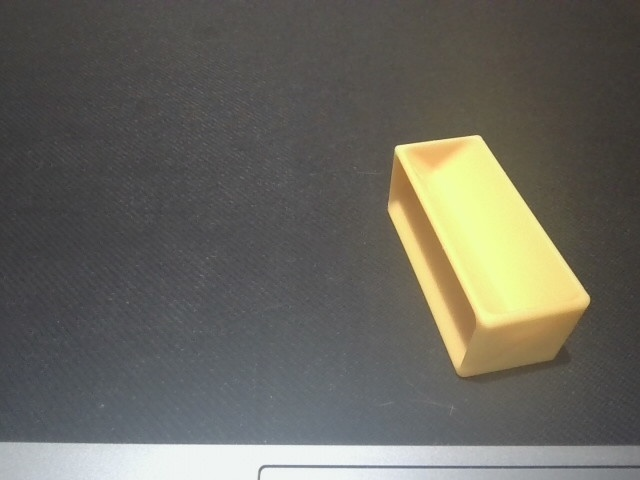YellowSample: (382, 131, 595, 380)
